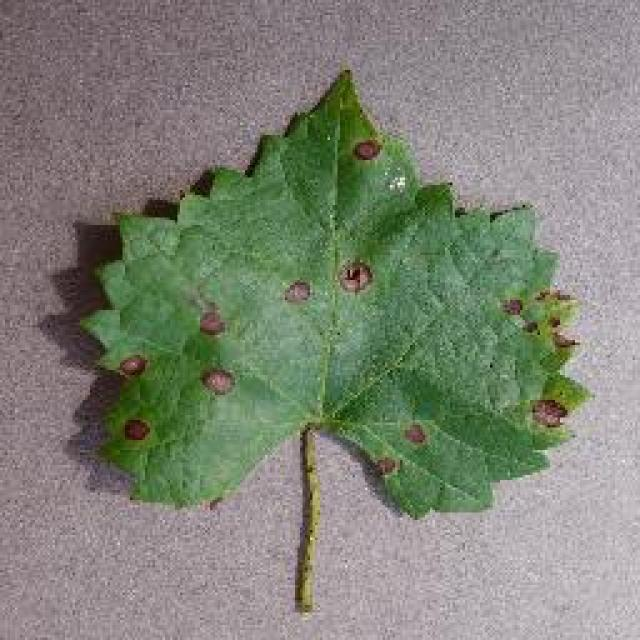Grape___Black_rot: (68, 70, 607, 612)
